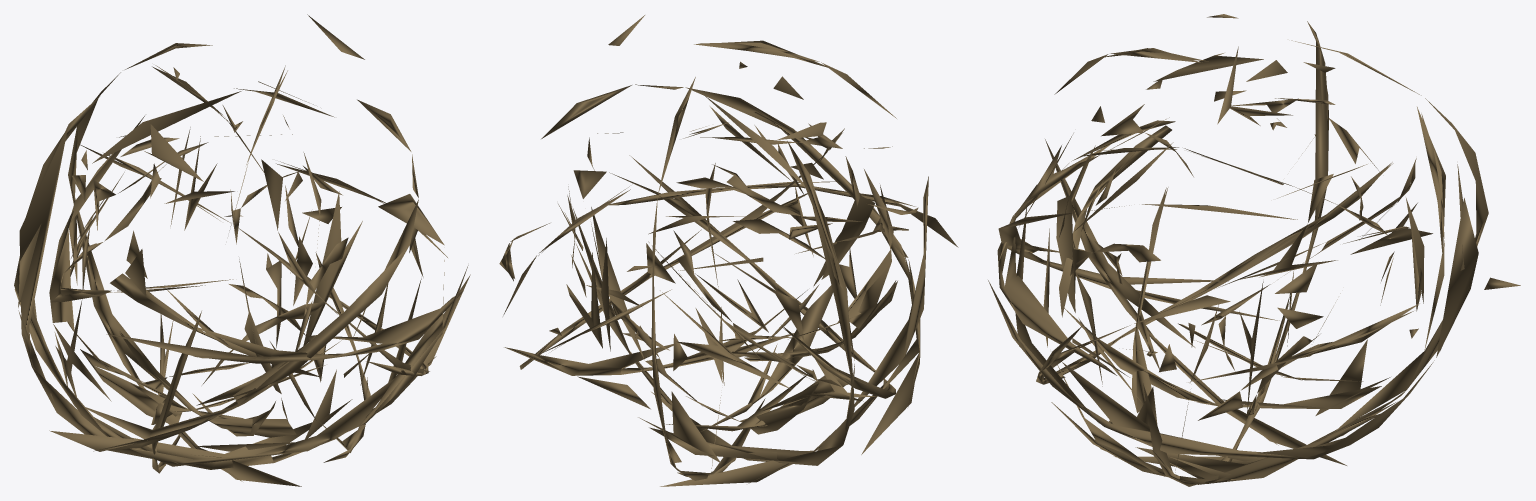
Rendered from plant-7-far.glb.
3 views of the same model, side by side, from view 1: azimuth 30°, elevation 25°; view 2: azimuth 150°, elevation 25°; view 3: azimuth 270°, elevation 25° (orthographic). The views are drawn at different scales.
Parts seen in each view (by area): view 1: Plane.007_Material.001_0; view 2: Plane.007_Material.001_0; view 3: Plane.007_Material.001_0.
Boxes of the visible parts, bbox=[...] form: Plane.007_Material.001_0: bbox=[14, 14, 470, 486]; Plane.007_Material.001_0: bbox=[499, 15, 958, 486]; Plane.007_Material.001_0: bbox=[988, 14, 1520, 486].
Bounding box in the file's own units: 0.4143 × 0.4594 × 0.4731.
